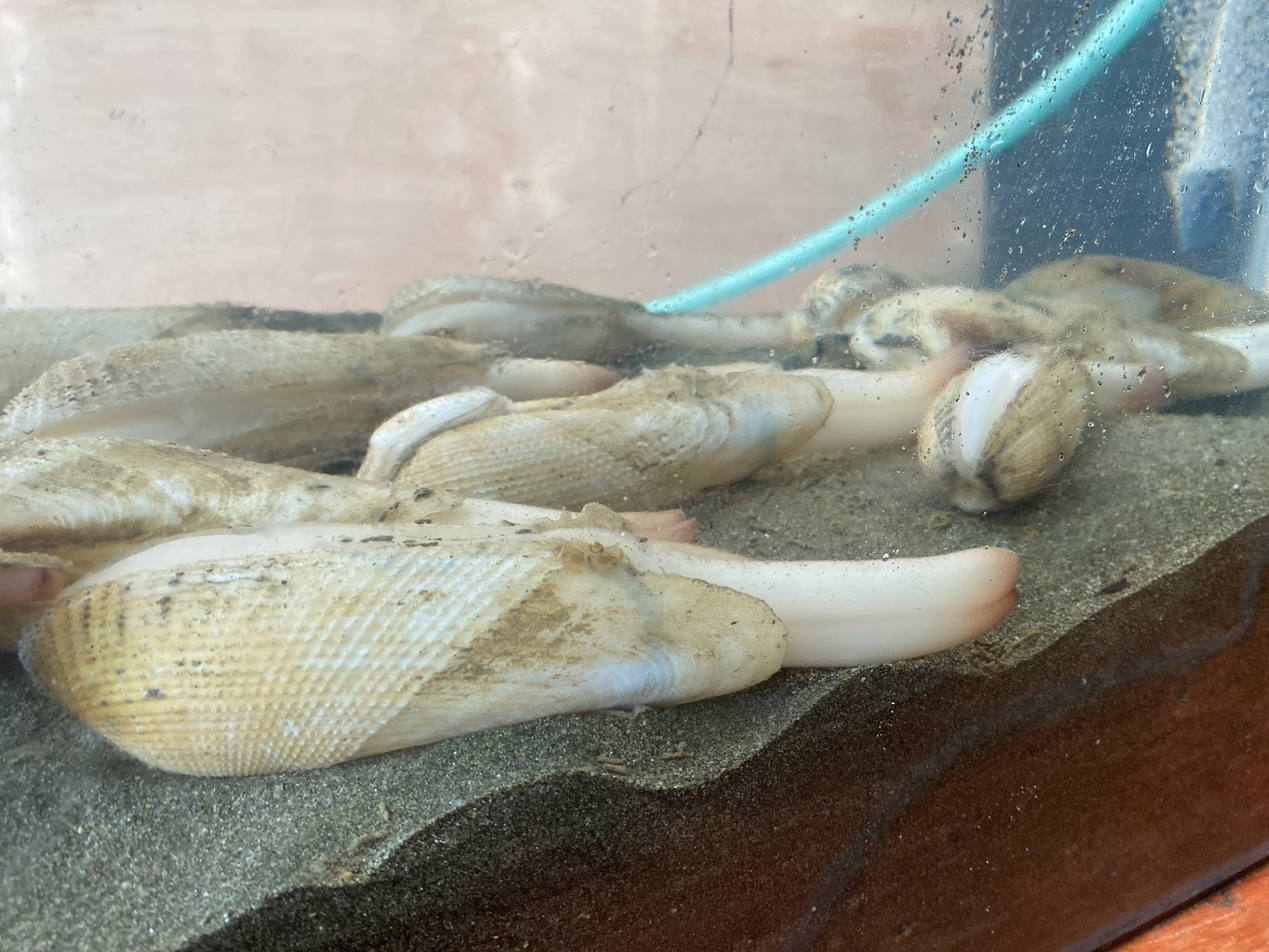Healthy: (20, 522, 1019, 775), (394, 348, 967, 509), (0, 330, 614, 469), (947, 352, 1040, 475)
